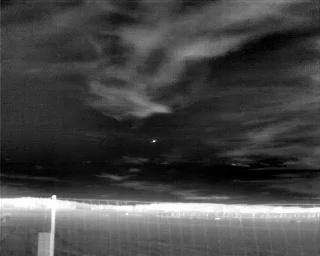AIRPLANE: (151, 137, 157, 144)
